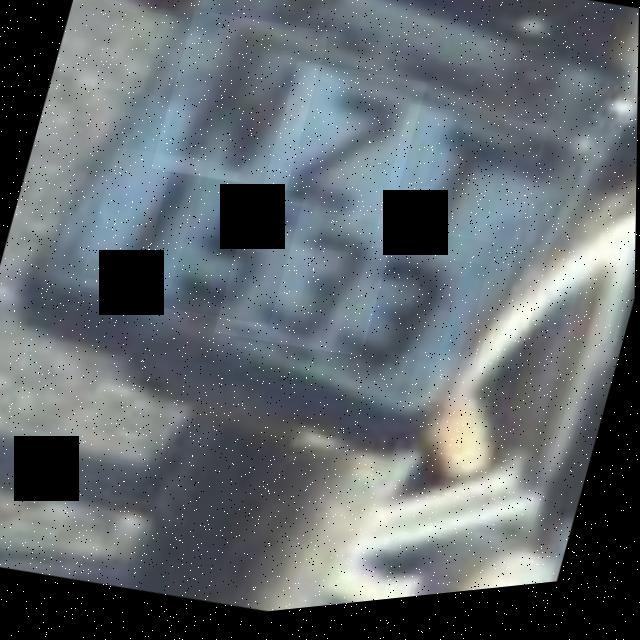1: (82, 142, 206, 298)
3: (278, 207, 497, 433), (214, 187, 400, 377)
5: (134, 163, 306, 342)
N: (150, 3, 330, 209)
T: (371, 100, 550, 292)
Z: (261, 57, 427, 235)
